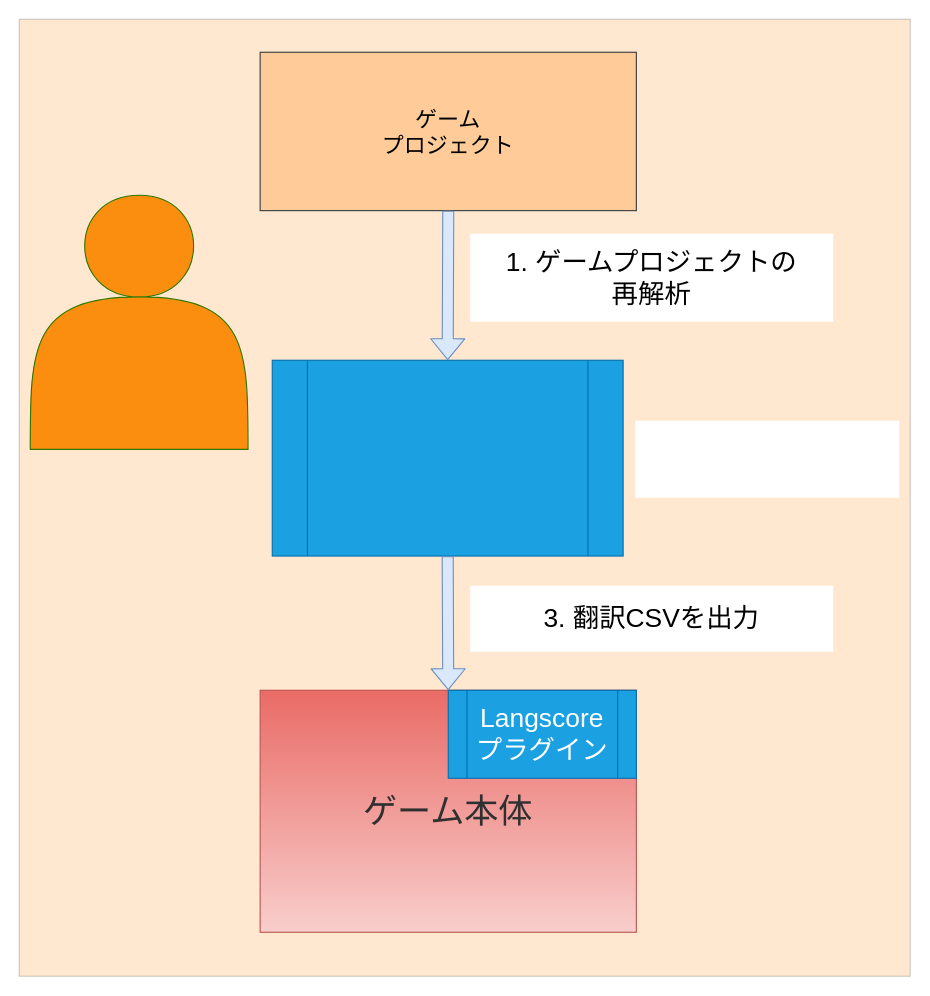
The diagram is 930 pixels wide and 996 high, and some of its shapes have lost their labels. Here are the shapes that lost their labels. From the top down, the centre of each, then its label:
At point (138, 321): "ゲーム制作者 さん".
At point (447, 457): "Langscore エディター 翻訳済みの内容を保持".
At point (767, 458): "2. 追加・変更された 文章を翻訳する".
